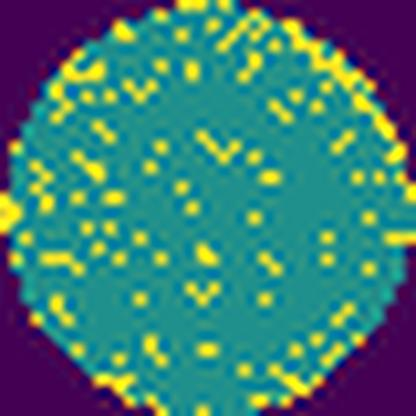Edge-Loc: (283, 12, 409, 175), (0, 191, 25, 240)
